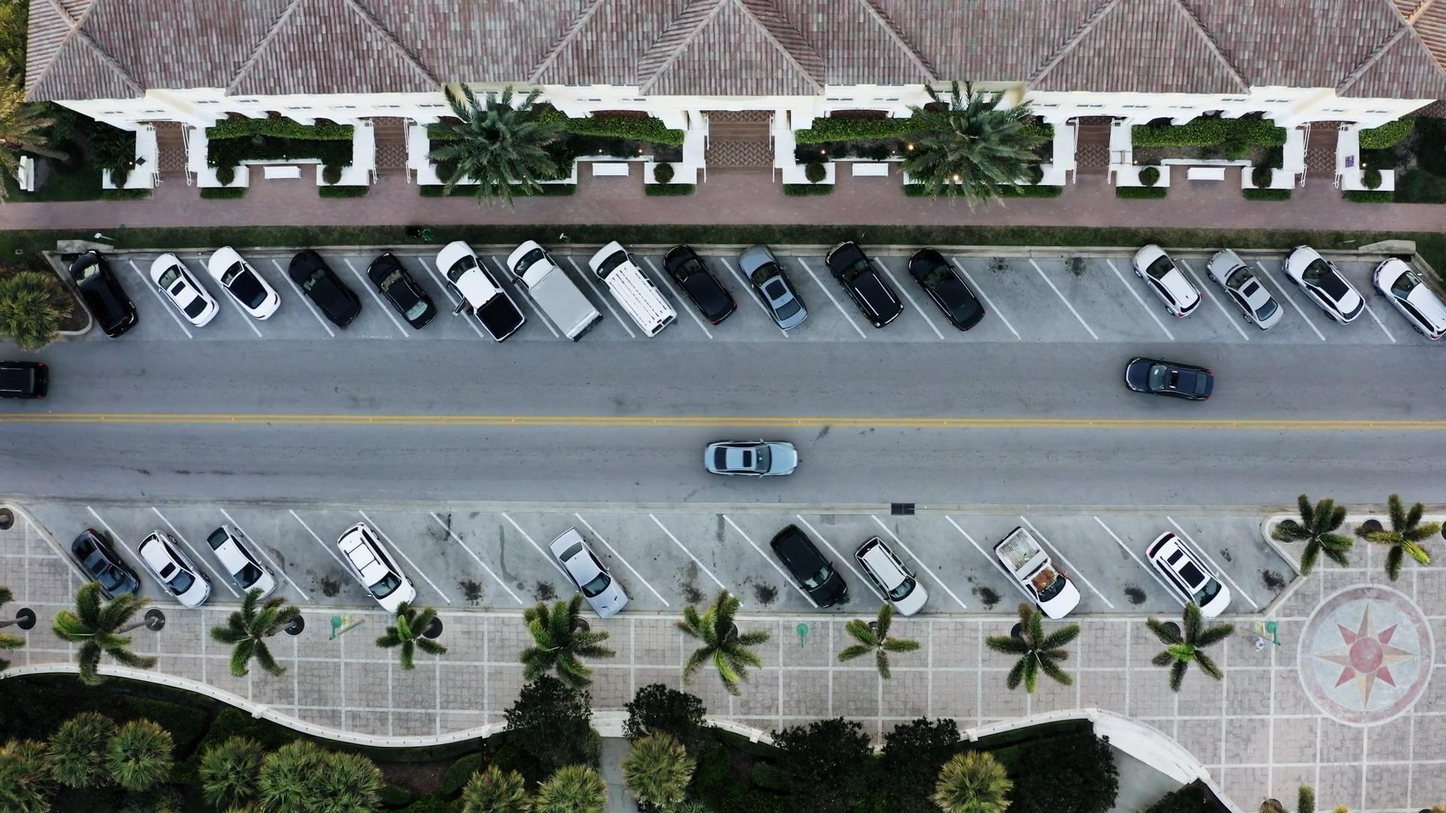free: (669, 246, 738, 328), (207, 524, 276, 599), (153, 252, 220, 326), (704, 439, 794, 476), (1, 362, 50, 400), (1297, 782, 1316, 813)
occupied: (436, 239, 529, 343), (590, 242, 675, 338), (1143, 530, 1232, 617), (999, 527, 1081, 619), (547, 527, 630, 617), (337, 523, 418, 613), (1281, 244, 1368, 324), (825, 242, 902, 330), (907, 248, 984, 331), (771, 525, 847, 609), (1205, 249, 1283, 330), (738, 243, 809, 331), (1370, 258, 1446, 340), (67, 251, 139, 337), (137, 531, 213, 608), (290, 250, 364, 328), (366, 251, 439, 330), (209, 246, 281, 322), (1131, 244, 1202, 320), (852, 536, 923, 612), (71, 529, 142, 600), (1123, 356, 1212, 400)
